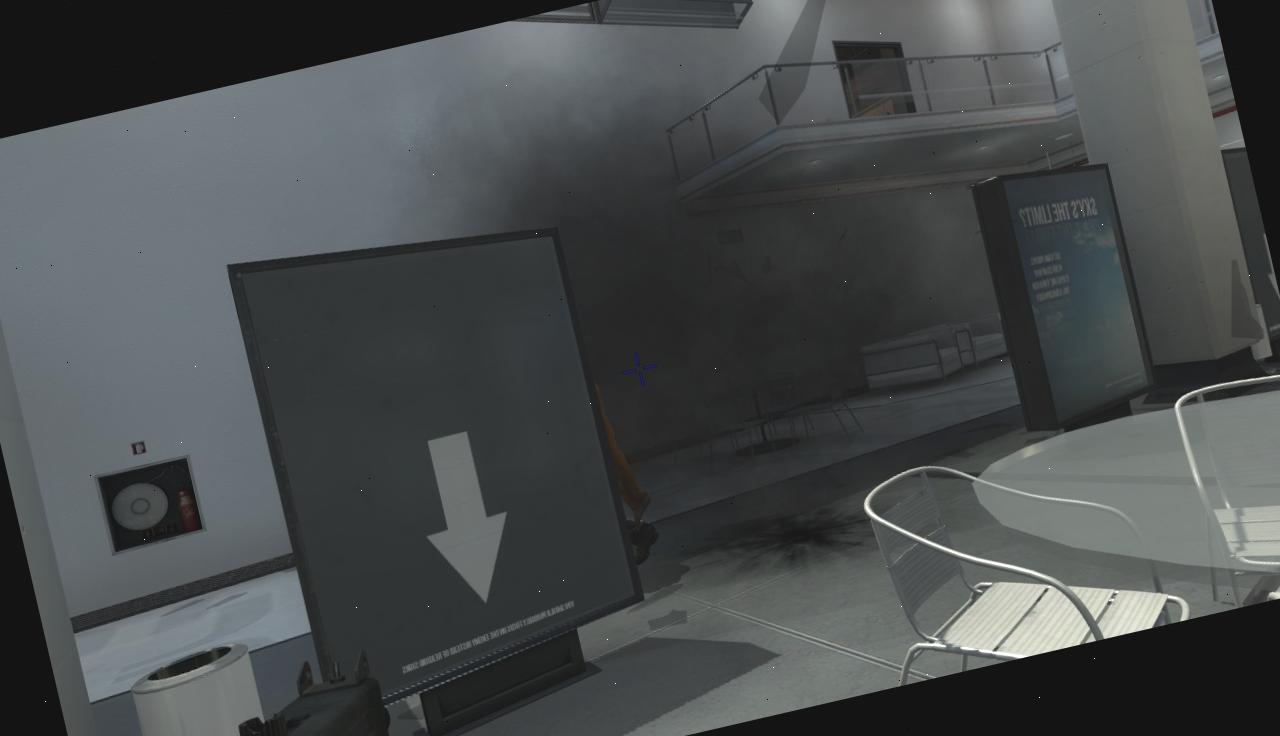rifle: (64, 646, 411, 736)
